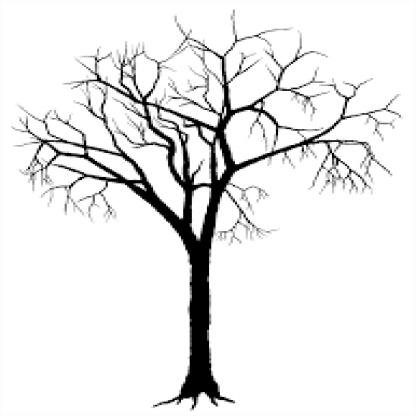branch_sharp: (16, 6, 404, 241)
root_only: (142, 382, 248, 412)
trunk_straight: (181, 281, 220, 359)
